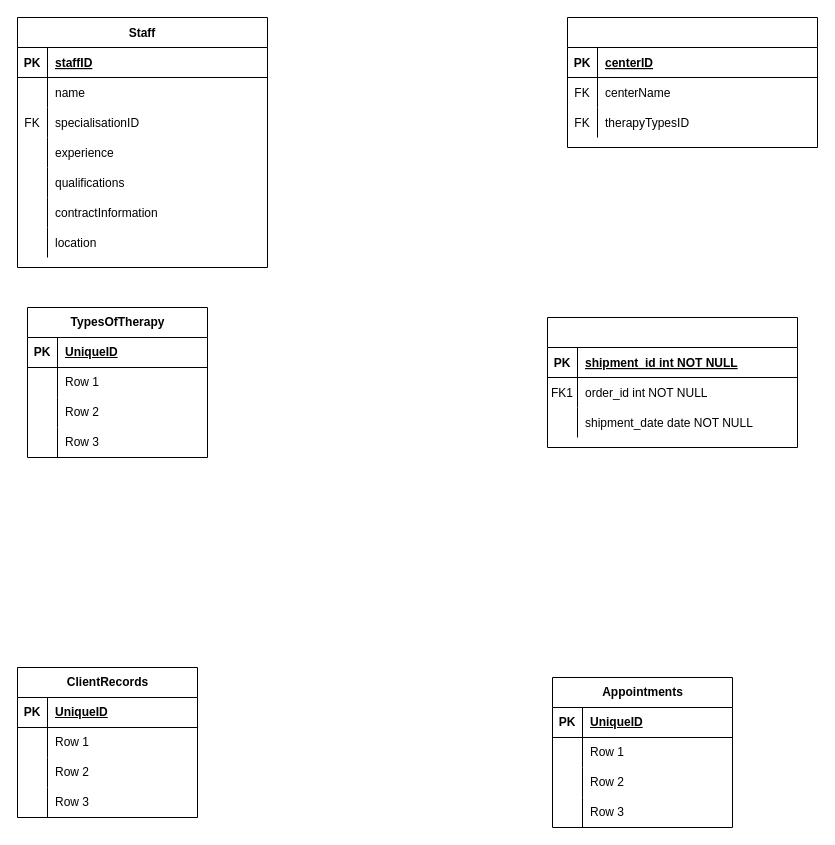
This 835x845 diagram has some shape labels left out. The shapes that lost their labels are listed below. From the top down, each one's box as (x1, y1, x2, y2) in pixels, then its label:
(566, 16, 818, 148): TherapyCentres
(546, 316, 798, 448): Equipment
